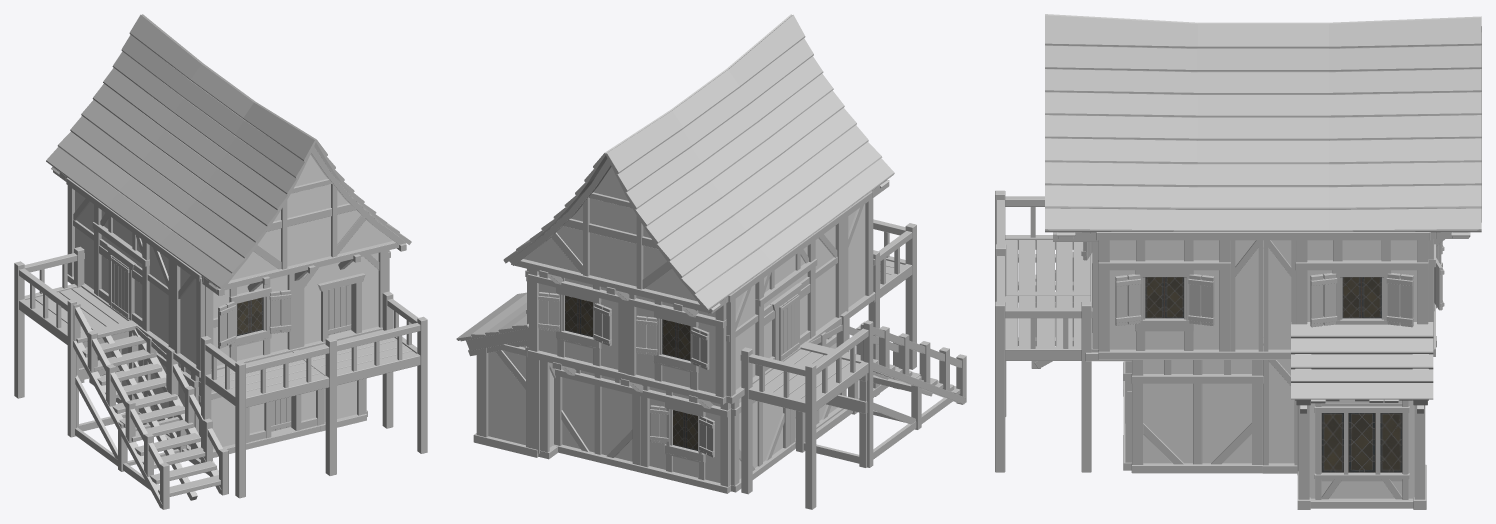
The model's file is House_1A6.fbx.
The picture shows the model from 3 angles, left to right: view 1: azimuth 30°, elevation 25°; view 2: azimuth 150°, elevation 25°; view 3: azimuth 270°, elevation 25°; orthographic projection. The views are drawn at different scales.
Visible parts, largest first — view 1: House_1A6, Cube.2365, Cube.2375, Plane.387, Cube.2381; view 2: House_1A6, Cube.2375, Plane.312, Plane.313, Plane.354; view 3: House_1A6, Plane.426, Plane.385, Plane.384.
Part boxes in pixels (x1=…): House_1A6: x1=14, y1=14, x2=427, y2=509; Cube.2365: x1=328, y1=284, x2=351, y2=335; Cube.2375: x1=110, y1=255, x2=129, y2=319; Plane.387: x1=237, y1=297, x2=262, y2=335; Cube.2381: x1=271, y1=397, x2=291, y2=431; House_1A6: x1=456, y1=14, x2=966, y2=509; Cube.2375: x1=779, y1=294, x2=799, y2=361; Plane.312: x1=662, y1=319, x2=690, y2=360; Plane.313: x1=565, y1=295, x2=592, y2=337; Plane.354: x1=673, y1=410, x2=697, y2=450; House_1A6: x1=995, y1=14, x2=1481, y2=509; Plane.426: x1=1321, y1=413, x2=1402, y2=472; Plane.385: x1=1342, y1=277, x2=1381, y2=318; Plane.384: x1=1145, y1=277, x2=1183, y2=318.
Size of the model in its own units: 1406 by 1378 by 1480.
